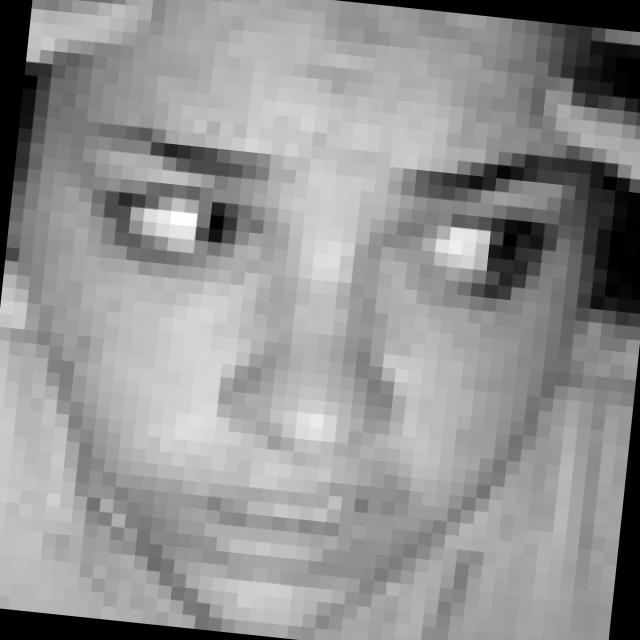fear: (39, 116, 604, 605)
